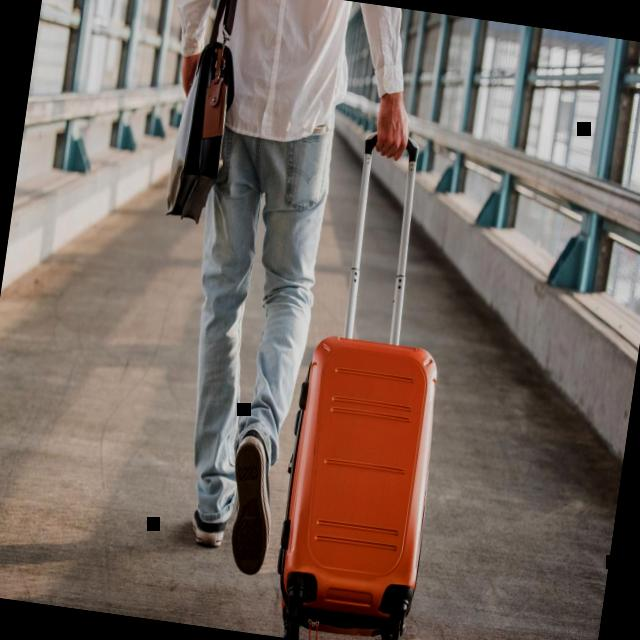luggage: (259, 321, 456, 640)
